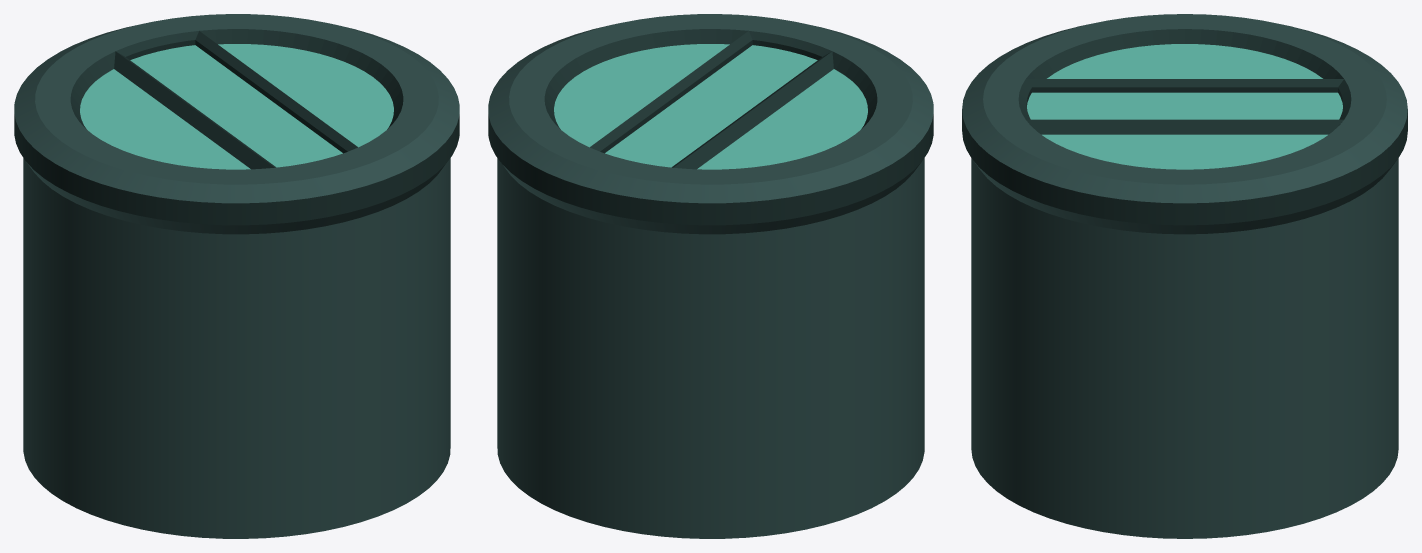
The model's file is SimonSays_Color_04.fbx.
3 views of the same model, side by side, from view 1: azimuth 30°, elevation 25°; view 2: azimuth 150°, elevation 25°; view 3: azimuth 270°, elevation 25° (orthographic).
Visible parts, largest first — view 1: SimonSays_Color_04; view 2: SimonSays_Color_04; view 3: SimonSays_Color_04.
Boxes of the visible parts, <box> form: SimonSays_Color_04: <box>14,14,459,538</box>; SimonSays_Color_04: <box>488,14,933,538</box>; SimonSays_Color_04: <box>962,14,1407,538</box>.
Bounding box in the file's own units: 164 × 142 × 164.
